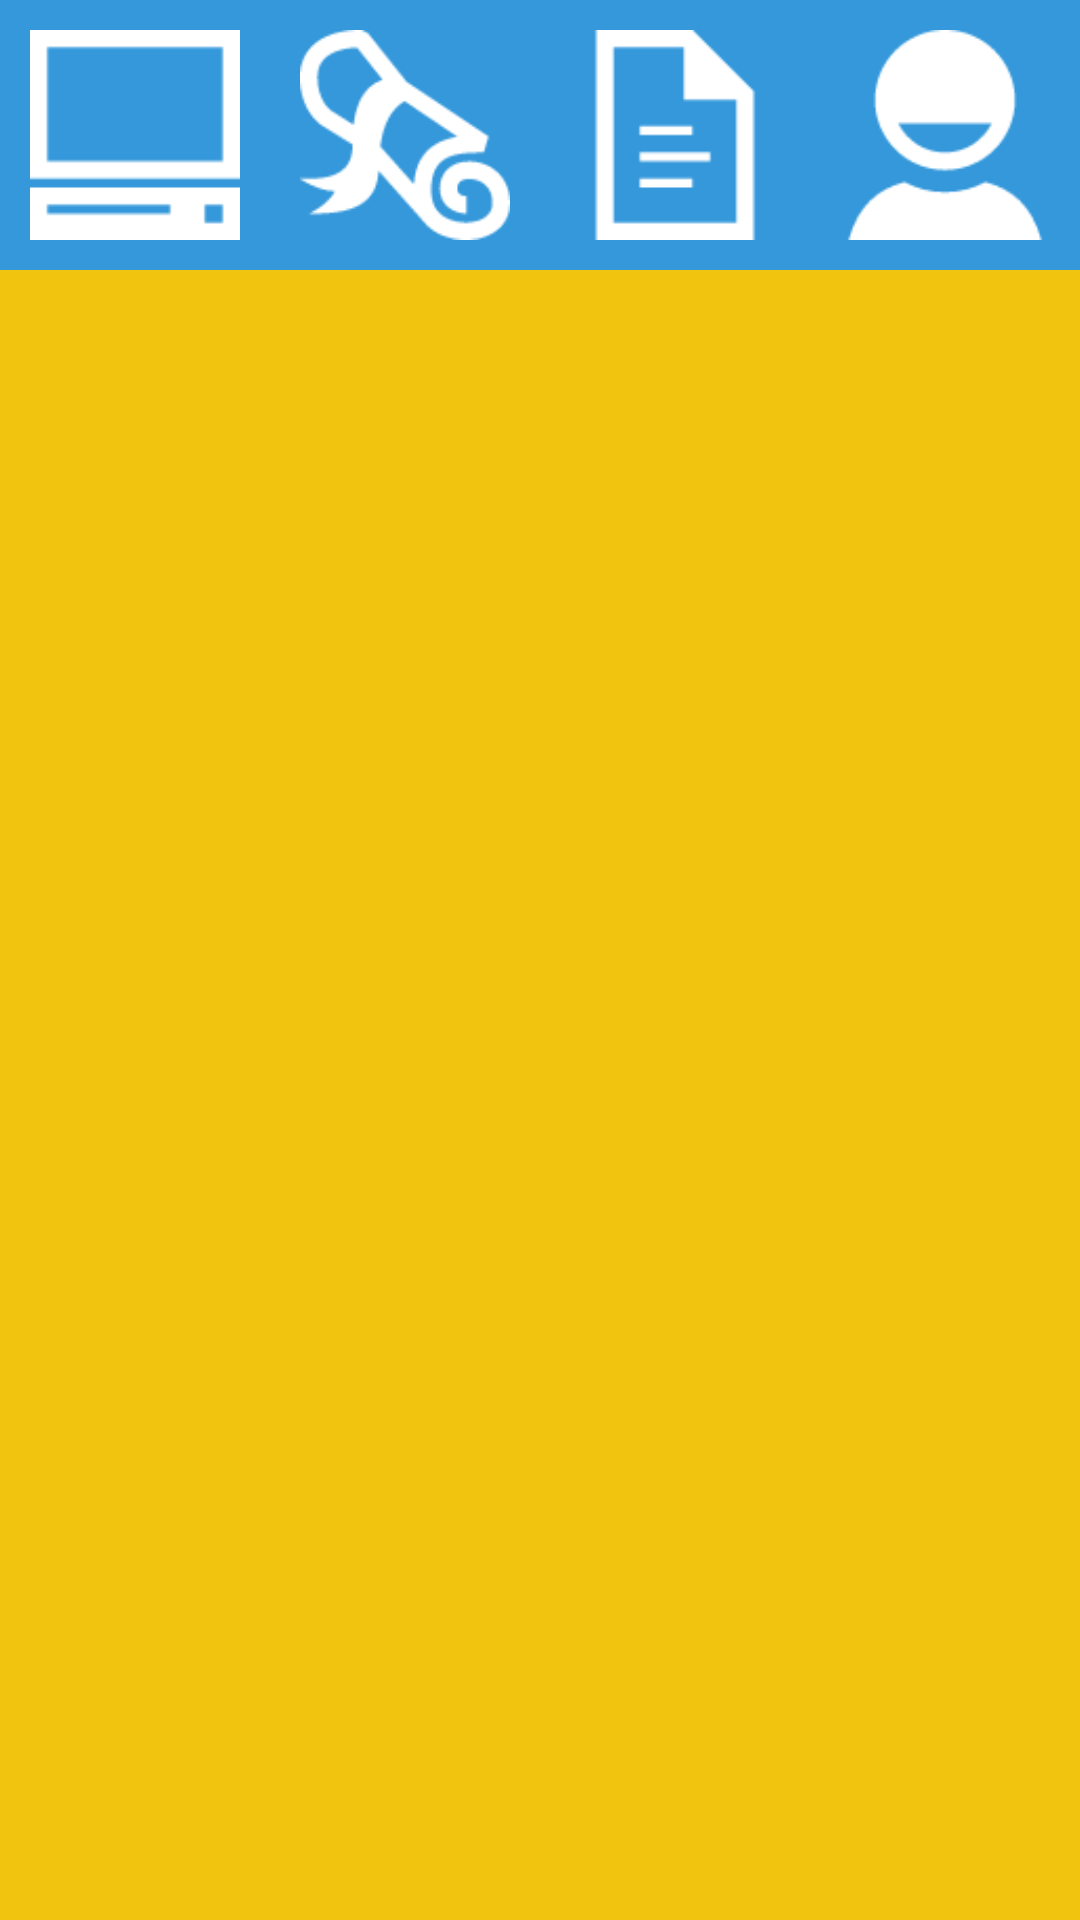

Screen size 1080px×1920px. Icon name, then its center in pixels as point (x, y):
diploma: point (405, 135)
document: point (675, 135)
user: point (945, 135)
